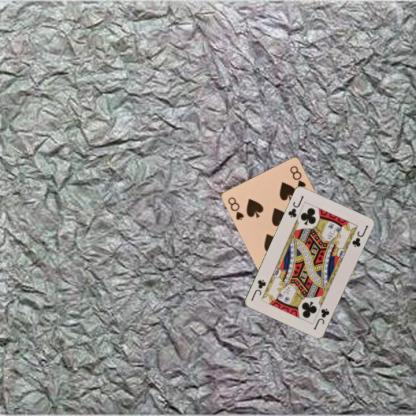8s: (226, 195, 246, 221)
Jc: (311, 306, 331, 331), (285, 194, 305, 219)
